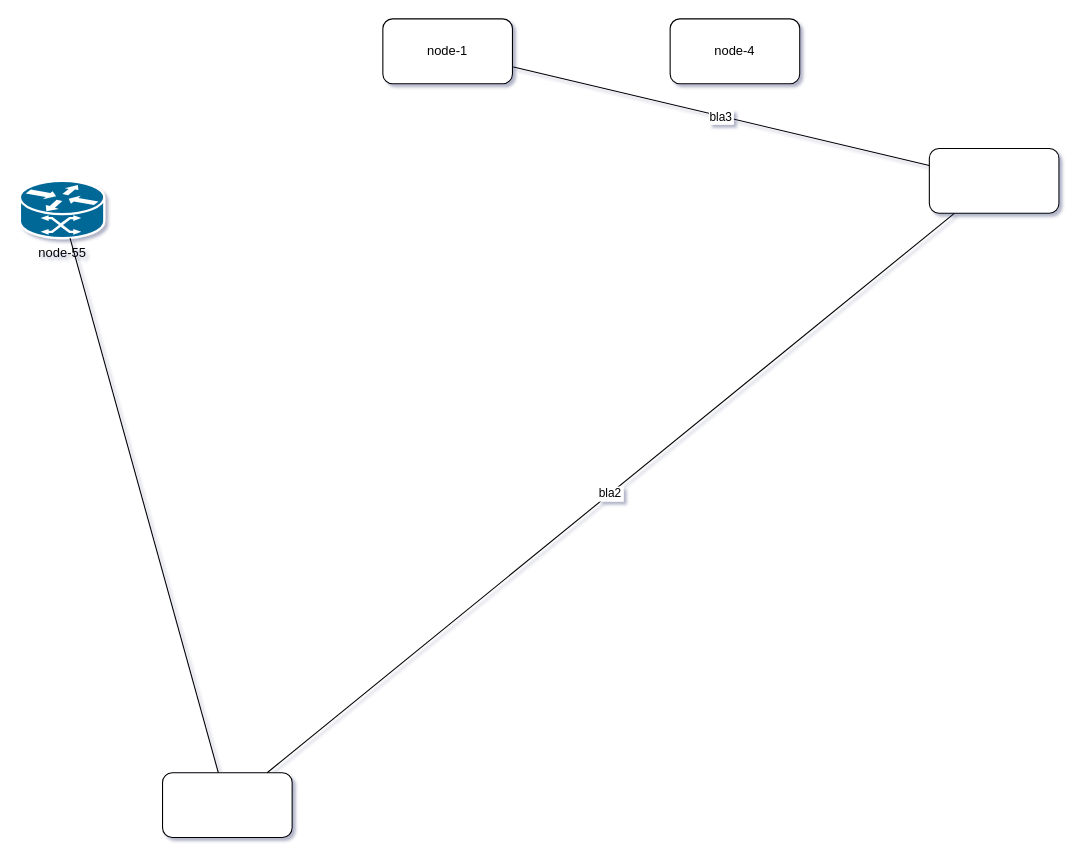
This 1084x863 diagram has some shape labels left out. Here are the shapes that lost their labels. From the top down, the centre of each, then its label:
At (993,180): "node-3".
At (226,805): "node-2".
